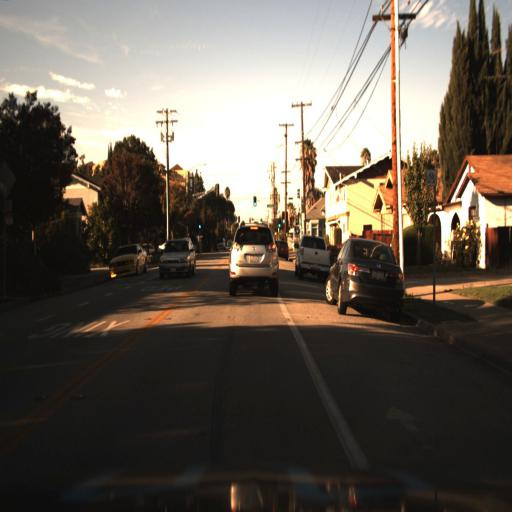car: (322, 232, 411, 324), (218, 212, 284, 304), (155, 233, 200, 287), (106, 238, 148, 286), (292, 230, 330, 281), (274, 233, 290, 270), (214, 234, 226, 256)
trafficLight-Green: (248, 198, 258, 214), (196, 218, 203, 236), (275, 218, 284, 231), (252, 193, 259, 209), (195, 220, 201, 236), (278, 217, 284, 232), (280, 213, 286, 228), (282, 215, 287, 228)
